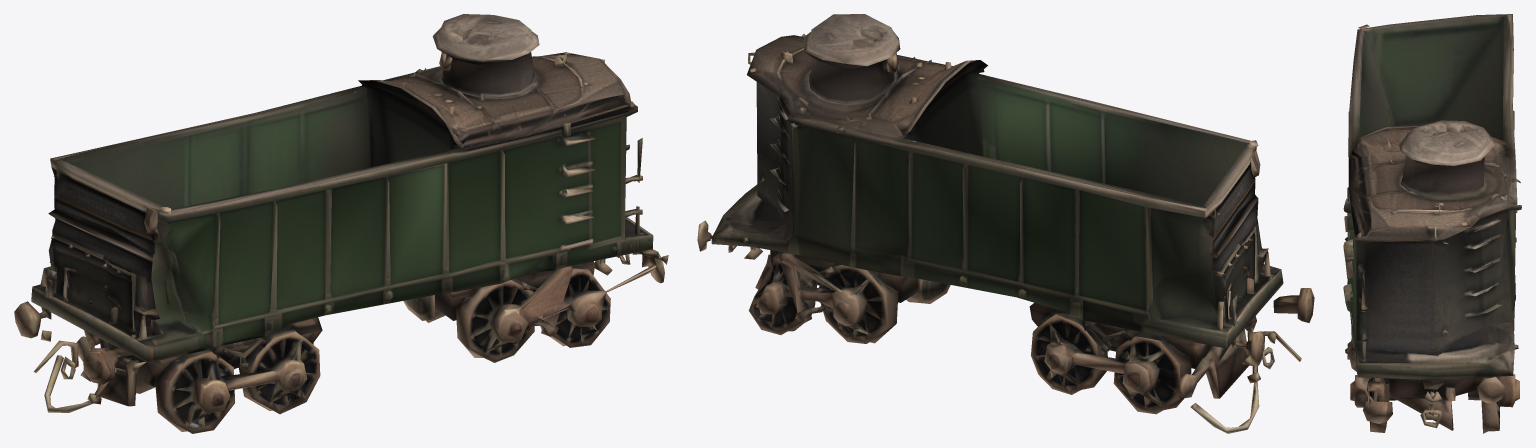
Rendered from tender.glb.
3 views of the same model, side by side, from view 1: azimuth 30°, elevation 25°; view 2: azimuth 150°, elevation 25°; view 3: azimuth 270°, elevation 25° (orthographic). The views are drawn at different scales.
Visible parts, largest first — view 1: tender_LOD0; view 2: tender_LOD0; view 3: tender_LOD0.
Part boxes in pixels (<box>): tender_LOD0: <box>14,14,668,433</box>; tender_LOD0: <box>697,14,1314,433</box>; tender_LOD0: <box>1343,14,1521,433</box>.
Size of what is drawn, in the model's own units: 5.2 by 2.56 by 1.51.
1 material, 1 textured.
